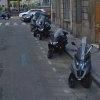Motorcycle: (45, 24, 98, 89)
